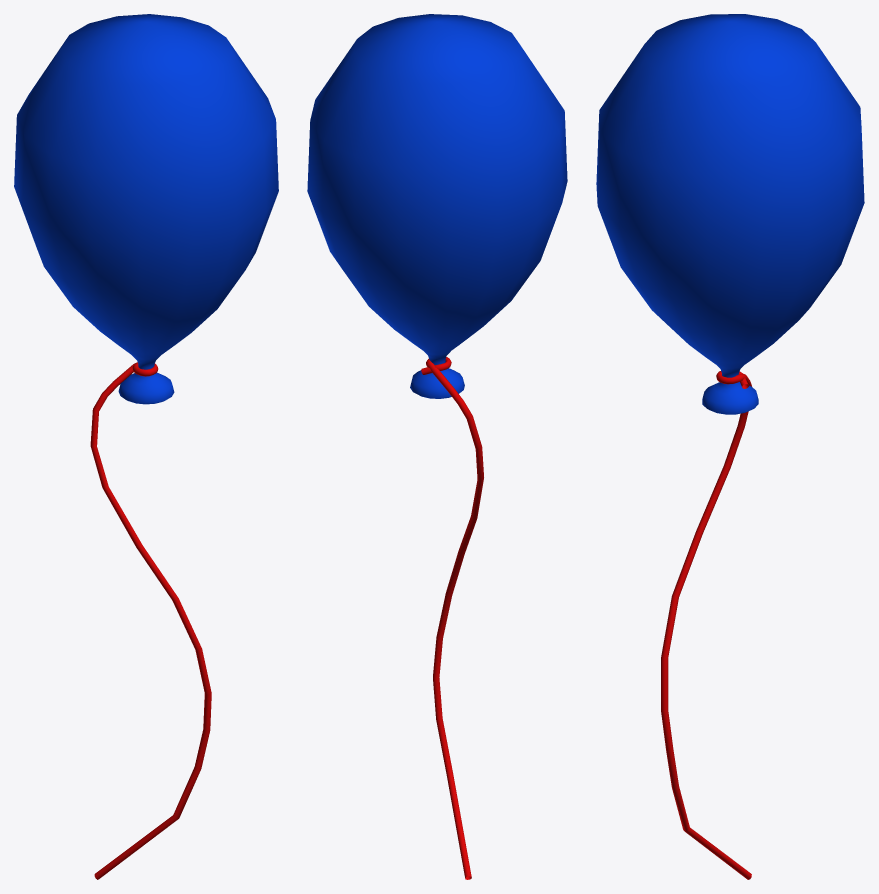
File: eff_ballon_mesh.fbx
The picture shows the model from 3 angles, left to right: view 1: azimuth 30°, elevation 25°; view 2: azimuth 150°, elevation 25°; view 3: azimuth 270°, elevation 25°; orthographic projection. The views are drawn at different scales.
Visible parts, largest first — view 1: nurbsToPoly3; view 2: nurbsToPoly3; view 3: nurbsToPoly3.
Boxes of the visible parts, x1,y1,x2,y2 form: nurbsToPoly3: (14,14,278,879); nurbsToPoly3: (307,14,567,879); nurbsToPoly3: (596,14,864,879).
Bounding box in the file's own units: 41.7 × 151 × 41.67.
